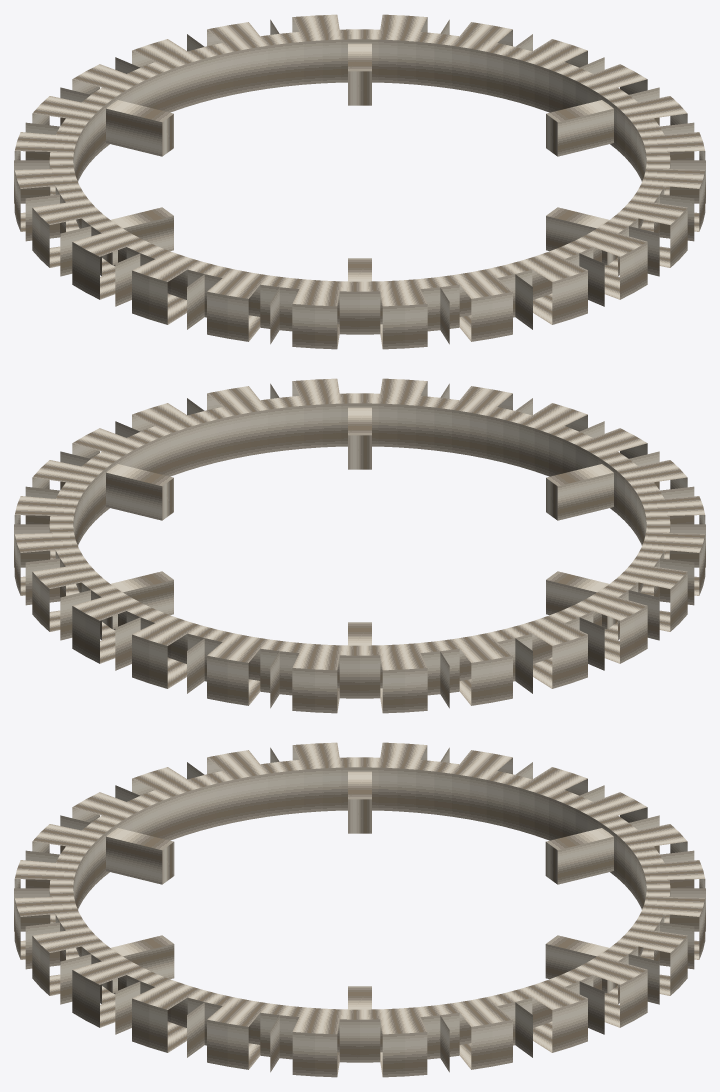
Rendered from gear.obj.
The picture shows the model from 3 angles, top to bottom: view 1: azimuth 30°, elevation 25°; view 2: azimuth 150°, elevation 25°; view 3: azimuth 270°, elevation 25°; orthographic projection.
Size of the model in its own units: 3.5 by 0.24 by 3.5.
